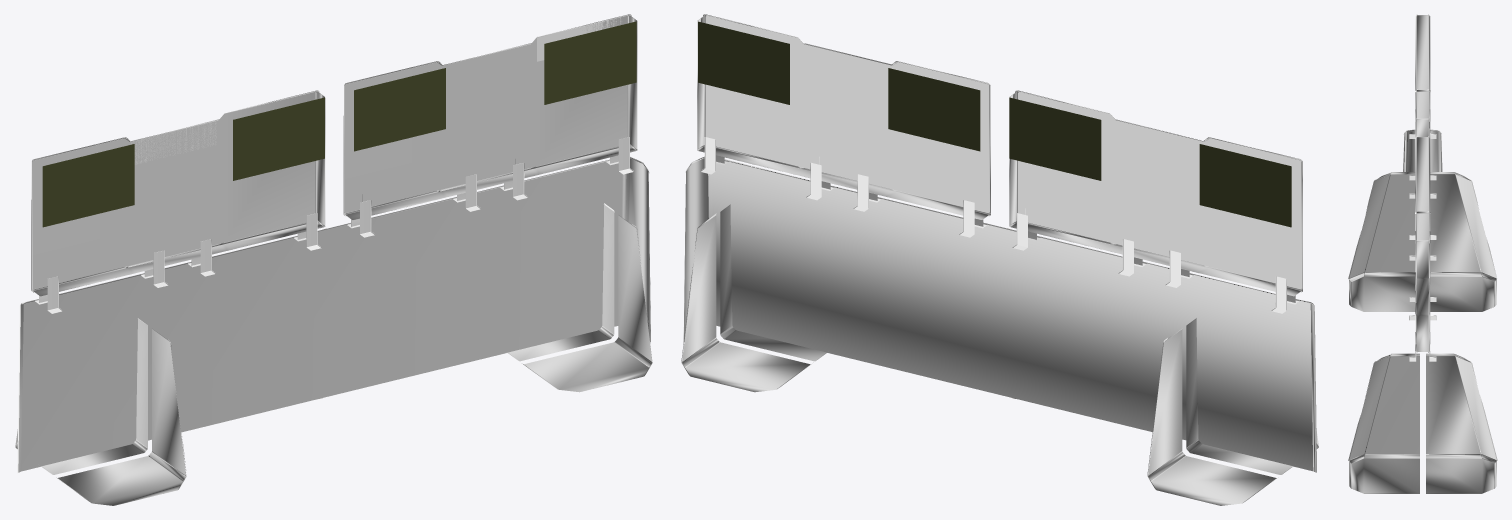
File: fs_compoundfence_chunk_h_12x02x06.glb
3 views of the same model, side by side, from view 1: azimuth 30°, elevation 25°; view 2: azimuth 150°, elevation 25°; view 3: azimuth 270°, elevation 25° (orthographic). The views are drawn at different scales.
Size of the model in its own units: 12.54 by 6.21 by 3.3.
